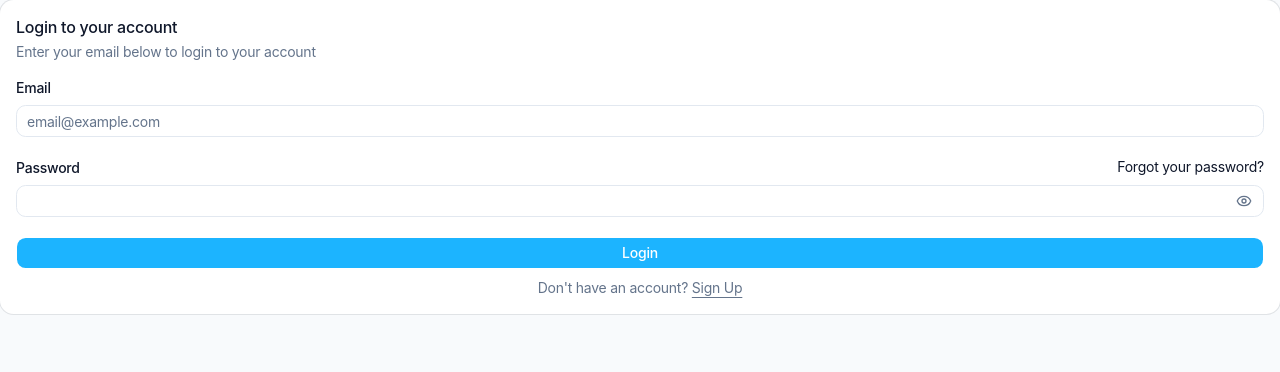
Test: LoginForm › shows a server-unreachable message and does not navigate when there is no response at all
Type "user@email.com" into the field labelled "Email" at (640, 121), box x1=16 y1=105 x2=1264 y2=137
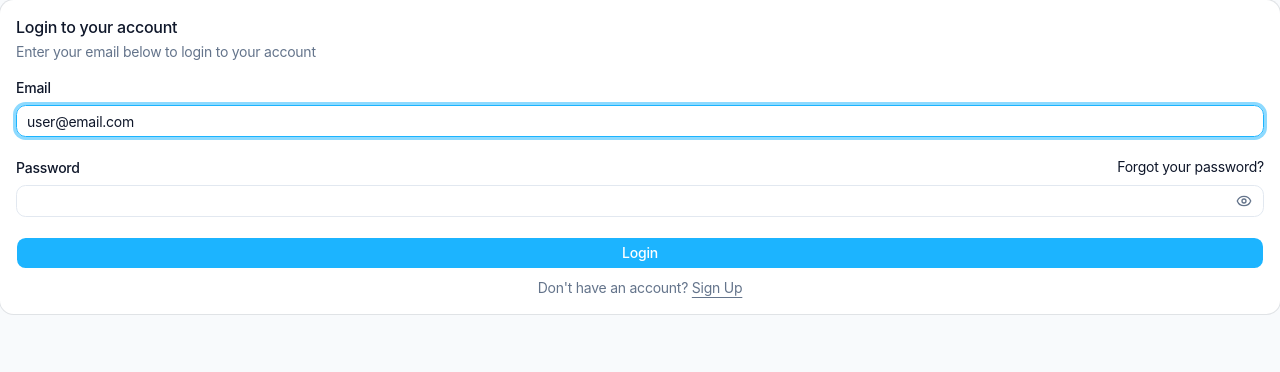
Type "Password@123" into the password field labelled "Password" at (640, 201), box x1=16 y1=185 x2=1264 y2=217
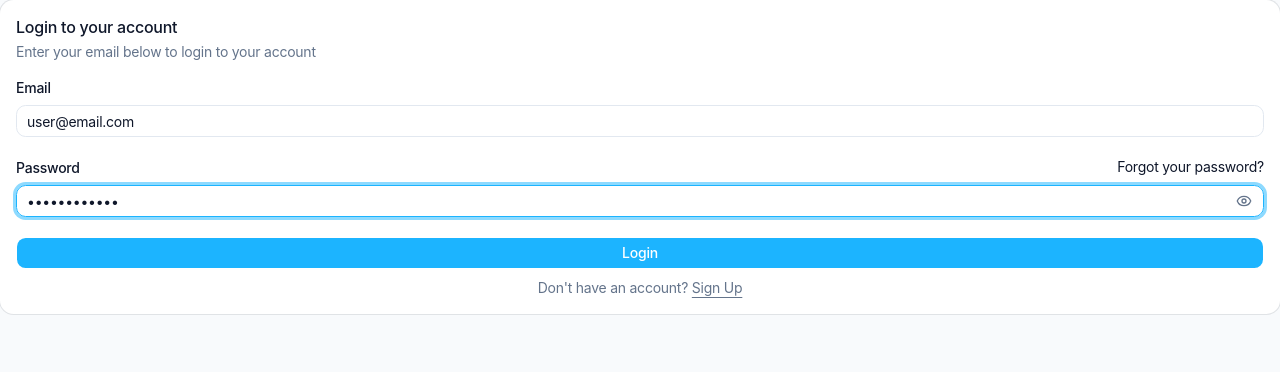
Click the button "Login" at (640, 253), box x1=16 y1=237 x2=1264 y2=269
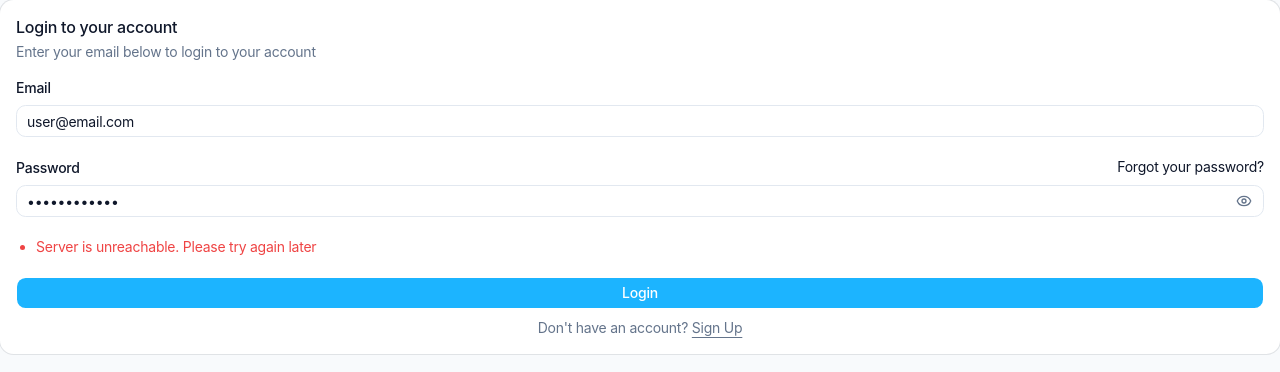
Expected: the list item "Server is unreachable. Please try again later" is shown, x1=36 y1=238 x2=316 y2=255
